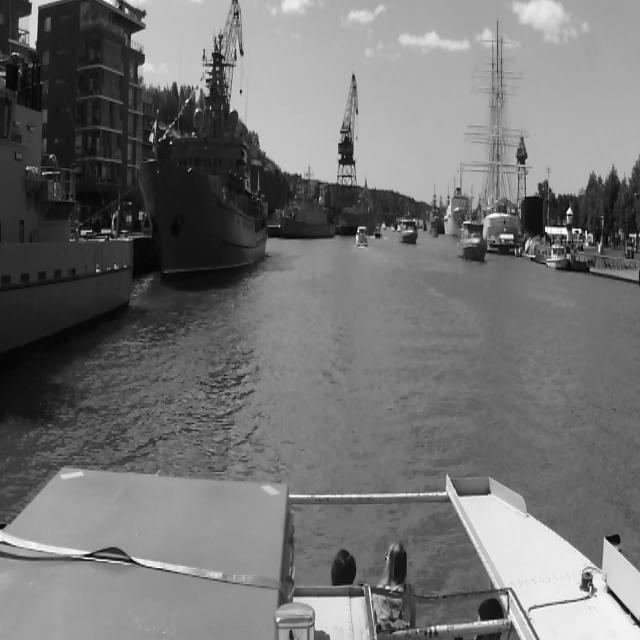ship: (136, 26, 269, 289), (462, 7, 534, 242), (276, 165, 336, 240), (457, 184, 489, 264), (338, 176, 378, 232), (487, 229, 521, 256), (427, 191, 442, 237), (546, 243, 570, 271), (398, 217, 417, 243), (356, 227, 368, 247), (374, 226, 382, 240)
